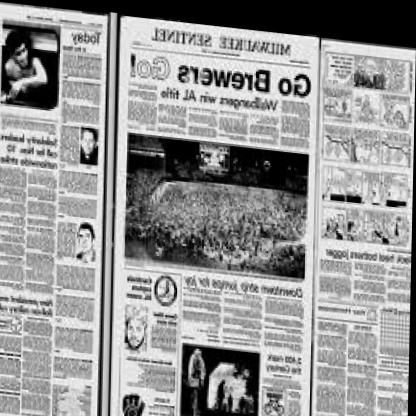Paper: (0, 6, 413, 416)
